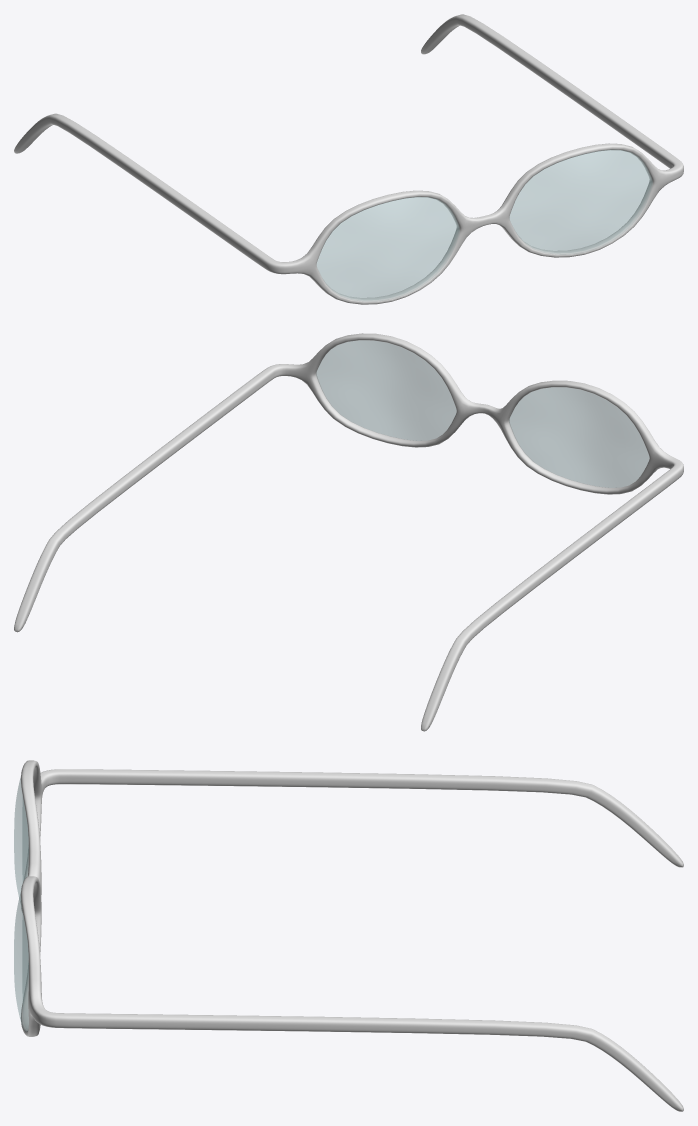
File: Glasses_2.fbx
3 views of the same model, one above another, from view 1: azimuth 30°, elevation 25°; view 2: azimuth 150°, elevation 25°; view 3: azimuth 270°, elevation 25° (orthographic). The views are drawn at different scales.
Visible parts, largest first — view 1: pCube1, pCube2, pCube3; view 2: pCube1, pCube2, pCube3; view 3: pCube1, pCube2, pCube3.
Part boxes in pixels (bbox=[...]): pCube1: bbox=[14, 14, 683, 304]; pCube2: bbox=[509, 150, 652, 254]; pCube3: bbox=[316, 197, 459, 301]; pCube1: bbox=[14, 333, 683, 731]; pCube2: bbox=[316, 340, 456, 440]; pCube3: bbox=[509, 387, 649, 487]; pCube1: bbox=[20, 760, 683, 1111]; pCube2: bbox=[14, 892, 28, 1031]; pCube3: bbox=[14, 777, 28, 905].
Bounding box in the file's own units: 45.73 × 13.2 × 51.79.
